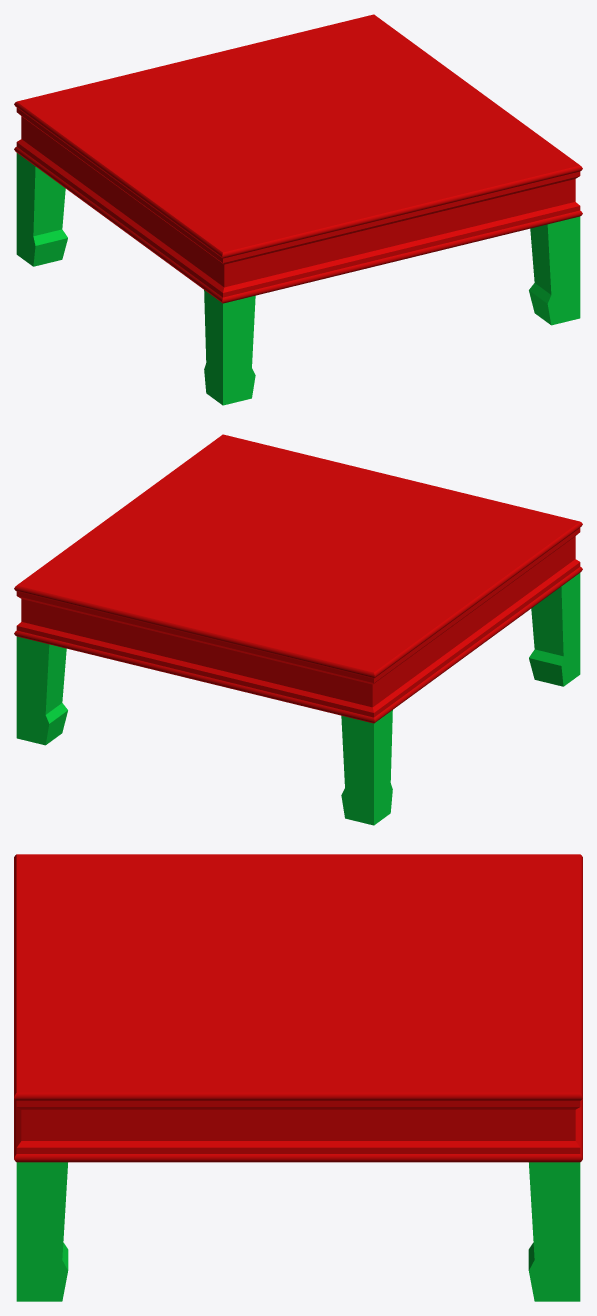
Rendered from rosewood_table_big.FBX.
The picture shows the model from 3 angles, top to bottom: view 1: azimuth 30°, elevation 25°; view 2: azimuth 150°, elevation 25°; view 3: azimuth 270°, elevation 25°; orthographic projection. The views are drawn at different scales.
Visible parts, largest first — view 1: Box001; view 2: Box001; view 3: Box001.
Boxes of the visible parts, box(x1,y1,x2,y2) form: Box001: box(14, 14, 582, 405); Box001: box(14, 434, 582, 825); Box001: box(14, 854, 582, 1301).
Bounding box in the file's own units: 1.11 × 1.11 × 0.45.
